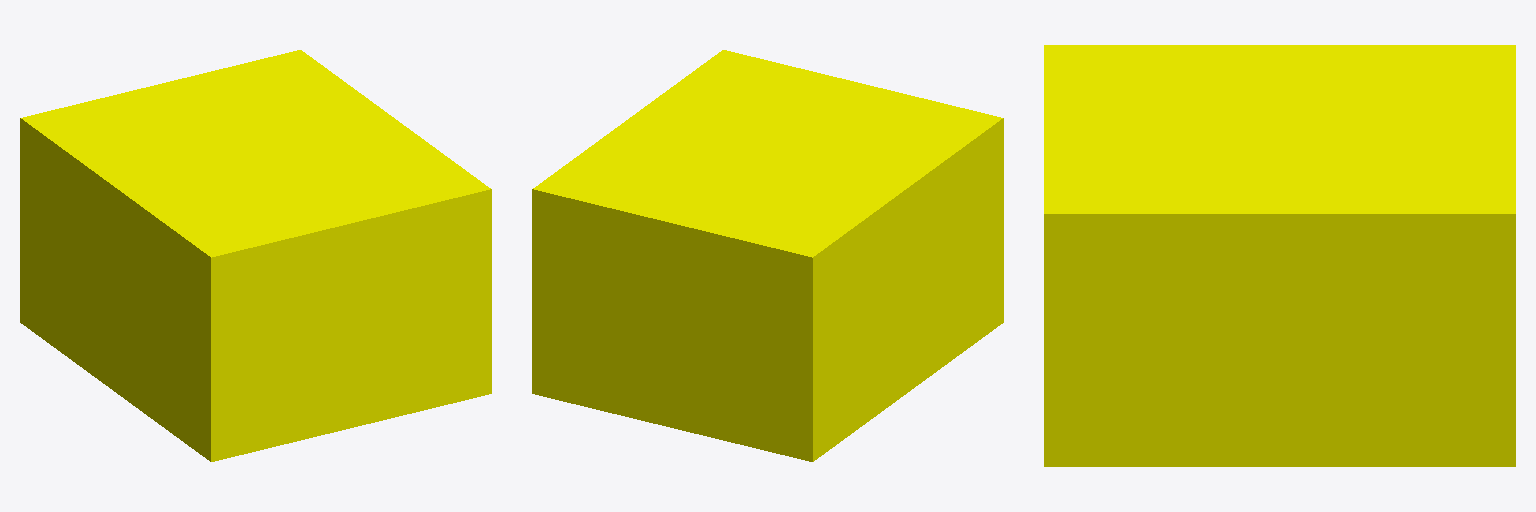
The robot description file, URDF, robot "pushing_box":
<?xml version="1.0" ?>
<!-- =================================================================================== -->
<!-- |    This document was autogenerated by xacro from [local-path]/uoe_slmc_software_platform/src/packages/nextage_pushing/urdf/pushing_box.urdf.xacro | -->
<!-- |    EDITING THIS FILE BY HAND IS NOT RECOMMENDED                                 | -->
<!-- =================================================================================== -->
<!--|
    Copyright (C) 2022 [author] and Motor Control Group, University of Edinburgh, UK
    Author:  [author] (maintainer)
    email:    [email redacted]
    website:  web.inf.ed.ac.uk/slmc

    This file is part of iiwa_pushing.

    iiwa_pushing is free software: you can redistribute it and/or modify
    it under the terms of the GNU General Public License as published by
    the Free Software Foundation, either version 3 of the License, or
    (at your option) any later version.

    iiwa_pushing is distributed in the hope that it will be useful,
    but WITHOUT ANY WARRANTY; without even the implied warranty of
    MERCHANTABILITY or FITNESS FOR A PARTICULAR PURPOSE.  See the
    GNU General Public License for more details.

|-->
<robot name="pushing_box">
  <!-- Fix to world just for testing -->
  <link name="world"/>
  <link name="base_link_pushing_box">
    <visual>
      <geometry>
        <box size="0.101 0.119 0.0705"/>
      </geometry>
      <material name="green">
        <color rgba="1.0 1.0 0.0 1"/>
      </material>
    </visual>
  </link>
  <joint name="base_link_joint" type="floating">
    <parent link="world"/>
    <child link="base_link_pushing_box"/>
    <origin rpy="0 0 0" xyz="0 0 0"/>
  </joint>
</robot>

--- What the picture shows (computed from the rendered views, not written in the file) ---
Views: 3 orthographic renders of the robot side by side, from view 1: azimuth 30°, elevation 25°; view 2: azimuth 150°, elevation 25°; view 3: azimuth 270°, elevation 25°.
Model pushing_box with 2 links and 1 joints (1 floating), rooted at world, posed all joints at 0.
Links seen in each view (by area): view 1: base_link_pushing_box; view 2: base_link_pushing_box; view 3: base_link_pushing_box.
Boxes of the visible links, x1,y1,x2,y2 form: base_link_pushing_box: (20, 50, 491, 461); base_link_pushing_box: (532, 50, 1003, 461); base_link_pushing_box: (1044, 45, 1515, 466).
Size in the robot's own frame: 0.101 by 0.119 by 0.0705 metres.
Geometry: primitives only (box / cylinder / sphere), no mesh files.
